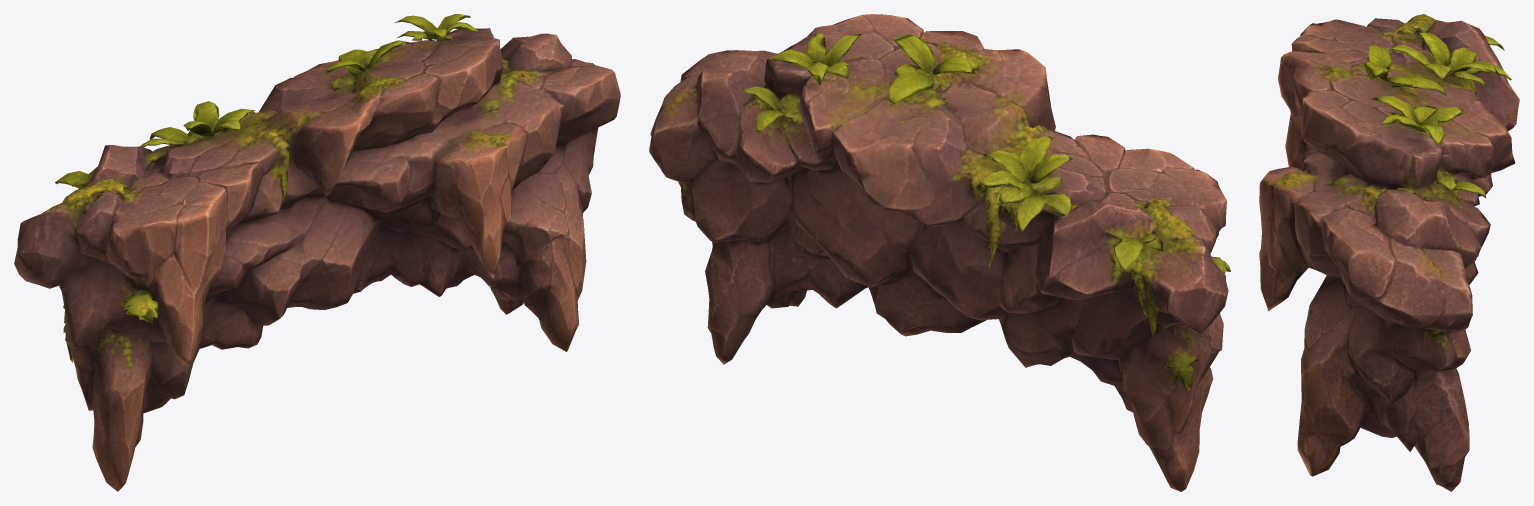
The model's file is cave-roof-4.glb.
3 views of the same model, side by side, from view 1: azimuth 30°, elevation 25°; view 2: azimuth 150°, elevation 25°; view 3: azimuth 270°, elevation 25° (orthographic). The views are drawn at different scales.
Visible parts, largest first — view 1: tripo_node_ef266e22-03d5-4d96-8de0-a23992a98fbb; view 2: tripo_node_ef266e22-03d5-4d96-8de0-a23992a98fbb; view 3: tripo_node_ef266e22-03d5-4d96-8de0-a23992a98fbb.
Part boxes in pixels (box(x1,y1,x2,y2)): tripo_node_ef266e22-03d5-4d96-8de0-a23992a98fbb: box(14, 14, 620, 491); tripo_node_ef266e22-03d5-4d96-8de0-a23992a98fbb: box(649, 14, 1230, 491); tripo_node_ef266e22-03d5-4d96-8de0-a23992a98fbb: box(1259, 14, 1519, 491).
Bounding box in the file's own units: 1 × 0.6301 × 0.3708.
1 material, 1 textured.
